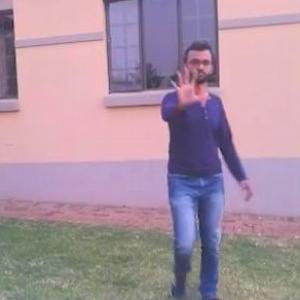follow_hand: (165, 58, 213, 113)
